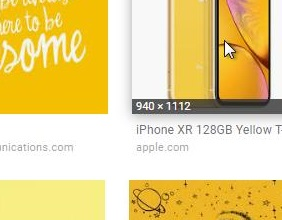cursor: (222, 38, 237, 60)
